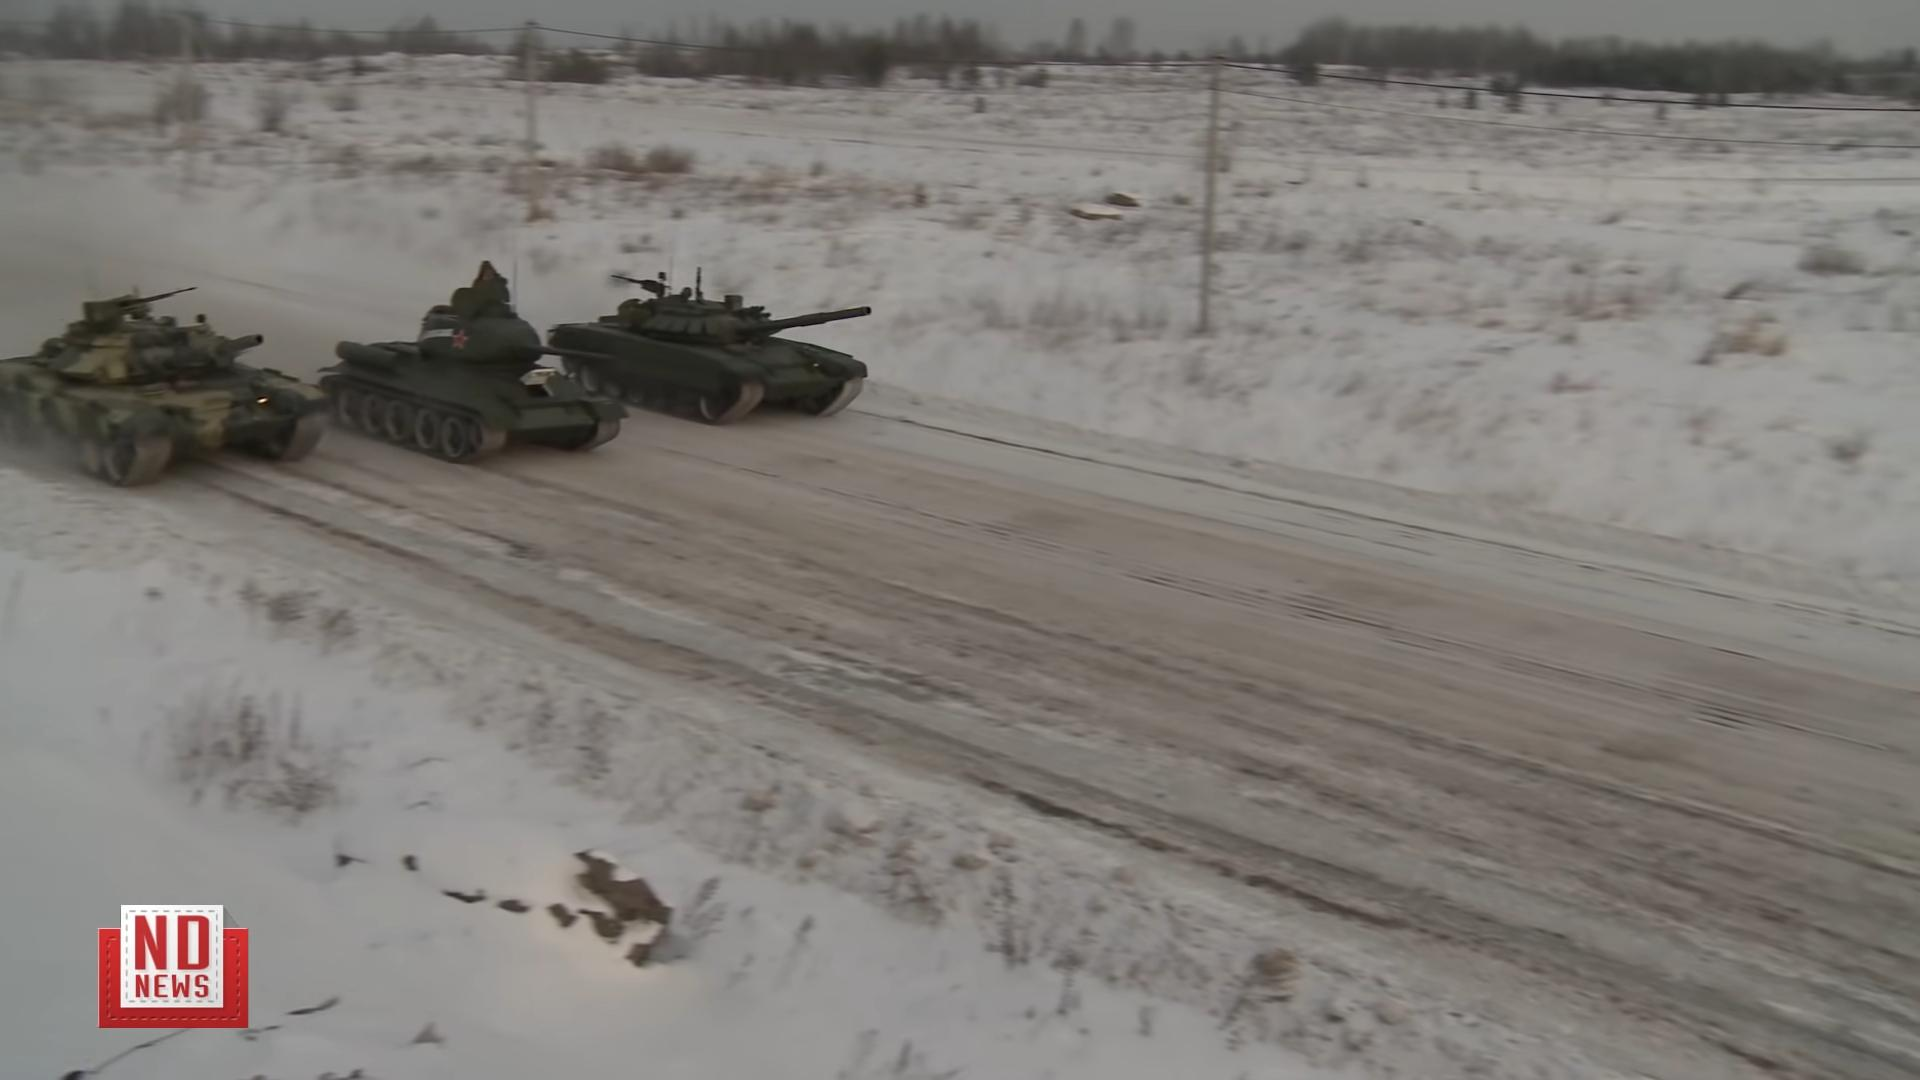tank: (1, 287, 330, 484), (320, 281, 626, 460), (553, 269, 872, 423)
